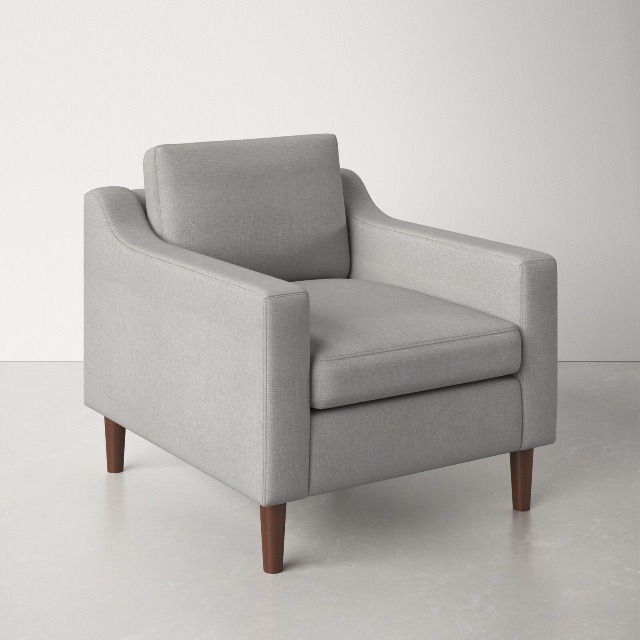obstacle: (84, 134, 556, 572)
